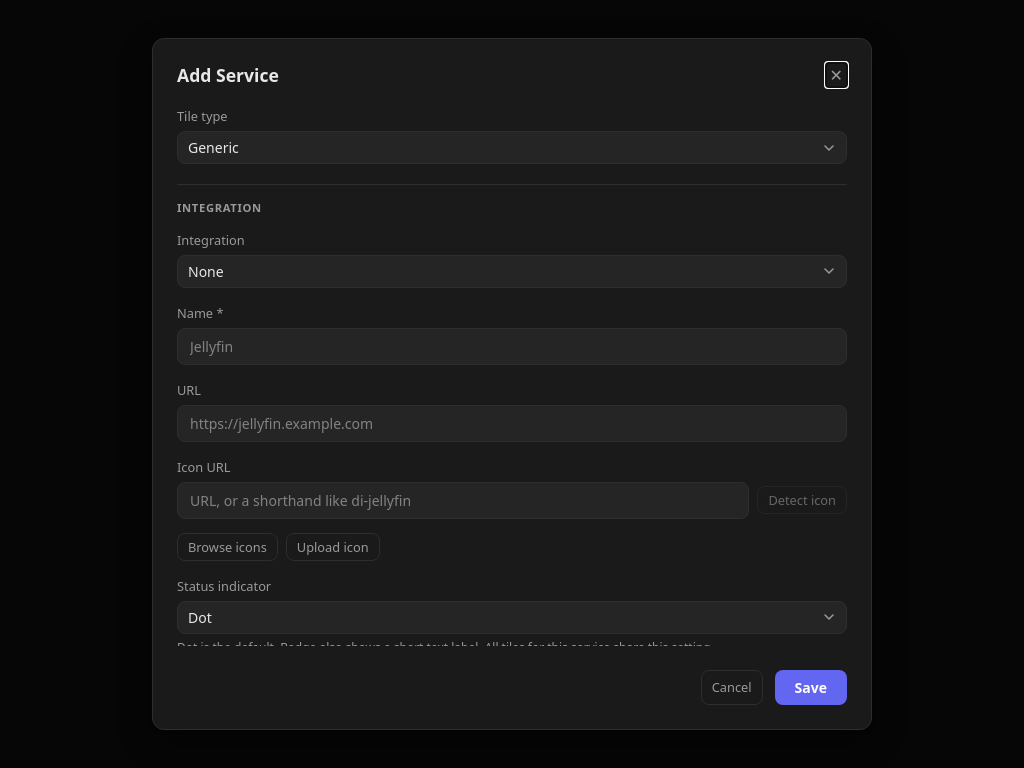
Test: ServiceForm – icon detection › shows a hint when no icon is found
Type "http://jellyfin.local" into the field labelled "URL". click: (512, 423)
box: [177,405,847,442]
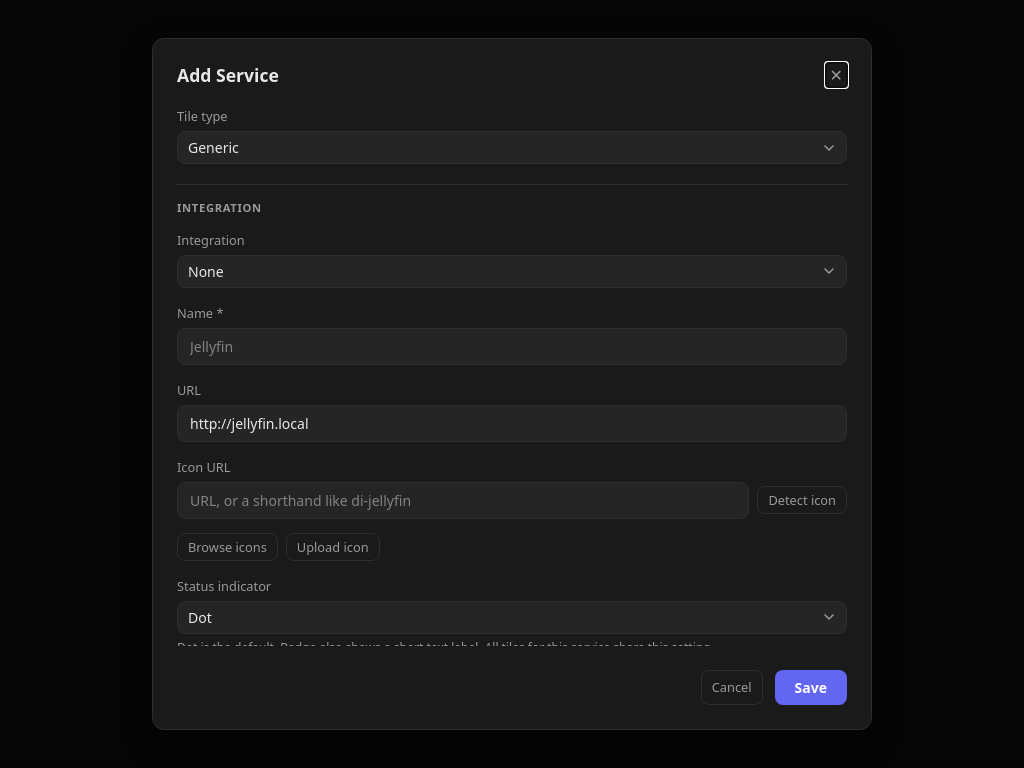
Click the button "Detect icon". click: (802, 500)
box: [757,486,847,514]
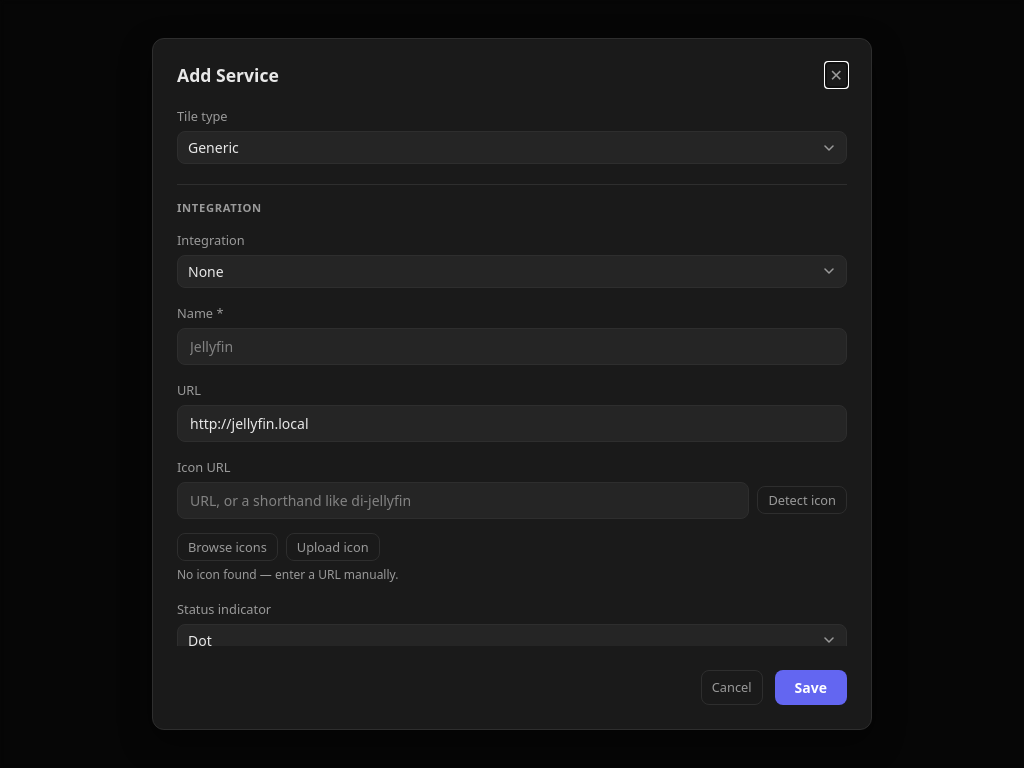
Check: the field labelled "Icon URL" is empty, box [177,482,749,519]
Check: the text "No icon found — enter a URL manually." is shown, box [177,567,398,584]
